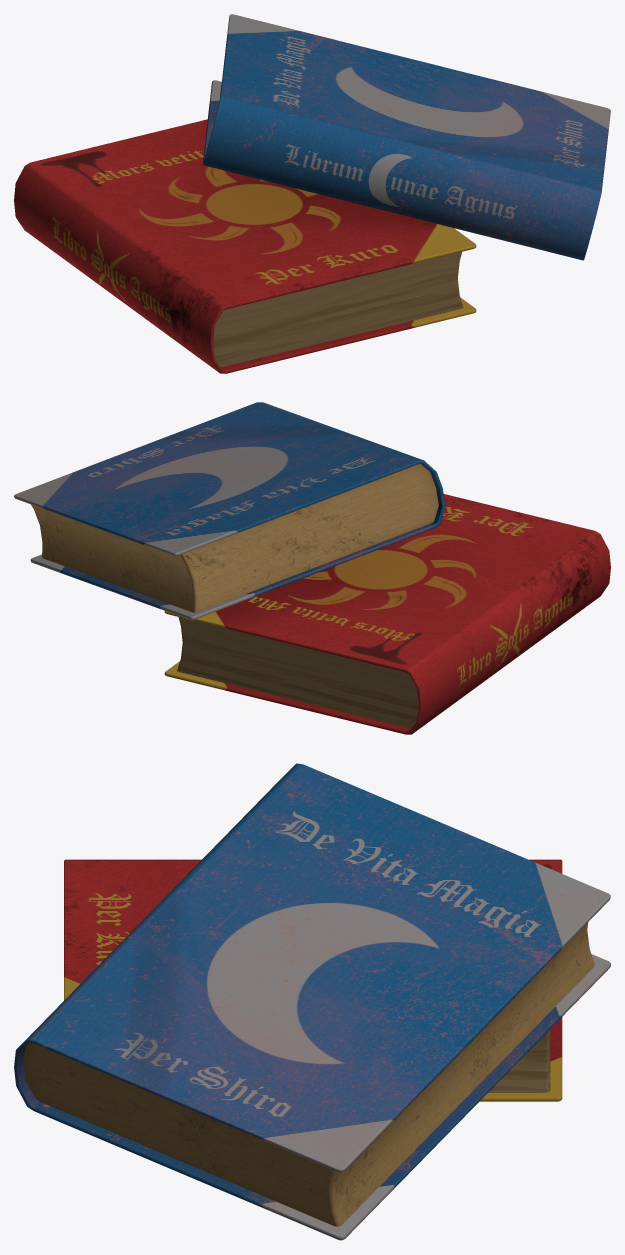
Rendered from books (1).glb.
3 views of the same model, one above another, from view 1: azimuth 30°, elevation 25°; view 2: azimuth 150°, elevation 25°; view 3: azimuth 270°, elevation 25° (orthographic). The views are drawn at different scales.
Parts seen in each view (by area): view 1: Books; view 2: Books; view 3: Books.
Part boxes in pixels (x1,y1,x2,y2): Books: (14,14,610,373); Books: (14,402,610,734); Books: (14,763,610,1240).
Bounding box in the file's own units: 31.4 × 11.08 × 25.16.
Materials: 2 (2 with a texture image).
